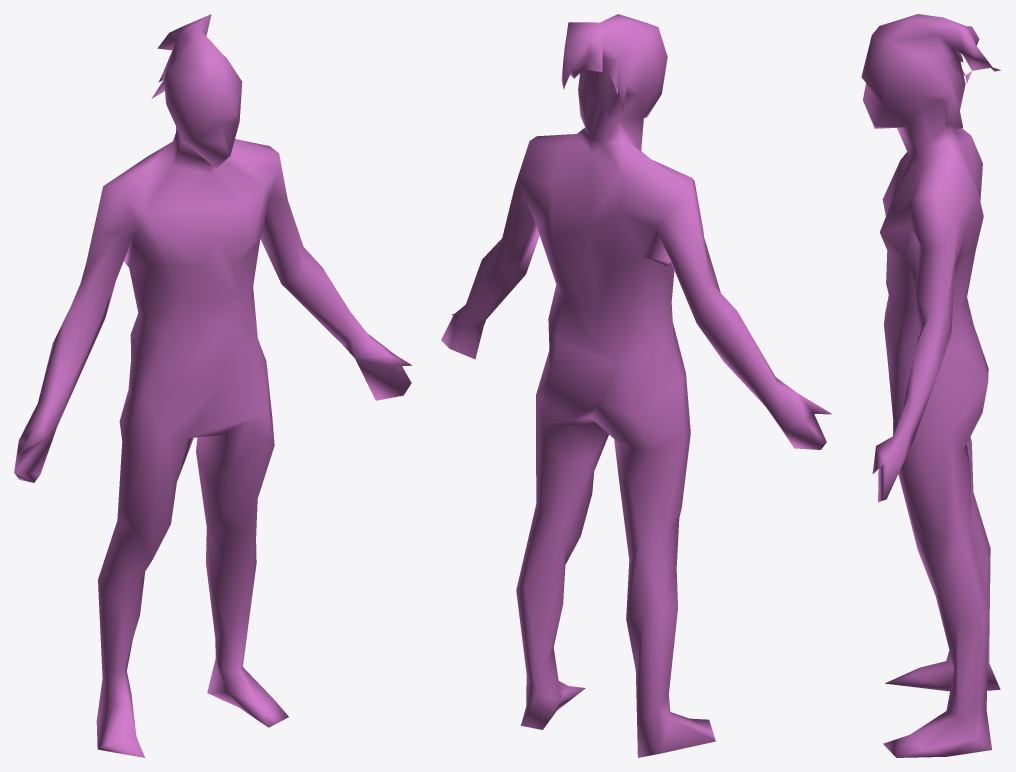
The model's file is metalpink.obj.
3 views of the same model, side by side, from view 1: azimuth 30°, elevation 25°; view 2: azimuth 150°, elevation 25°; view 3: azimuth 270°, elevation 25° (orthographic).
Bounding box in the file's own units: 1000 × 1696 × 305.
